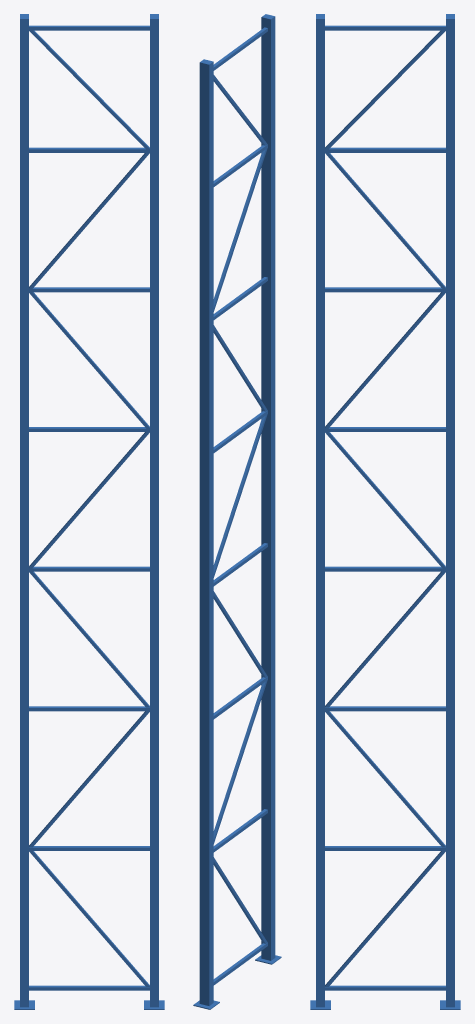
The model's file is SM_PalletRackFrame.fbx.
The picture shows the model from 3 angles, left to right: view 1: azimuth 90°, elevation 25°; view 2: azimuth 150°, elevation 25°; view 3: azimuth 270°, elevation 25°; orthographic projection. The views are drawn at different scales.
Parts seen in each view (by area): view 1: PR_PalletRackFrame; view 2: PR_PalletRackFrame; view 3: PR_PalletRackFrame.
Part boxes in pixels (x1=…): PR_PalletRackFrame: x1=14, y1=14, x2=164, y2=1009; PR_PalletRackFrame: x1=193, y1=14, x2=281, y2=1009; PR_PalletRackFrame: x1=310, y1=14, x2=460, y2=1009.
Bounding box in the file's own units: 16 × 850 × 117.
